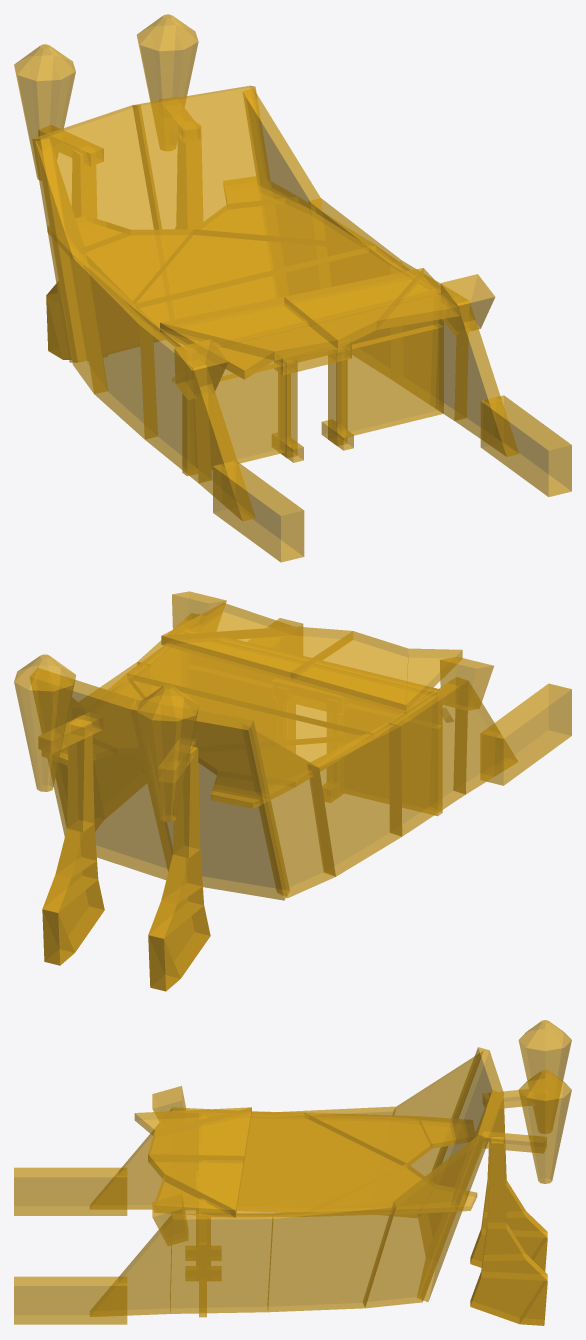
The model's file is SM_Veh_Ship_M_Back_04_Collision.fbx.
The picture shows the model from 3 angles, top to bottom: view 1: azimuth 30°, elevation 25°; view 2: azimuth 150°, elevation 25°; view 3: azimuth 270°, elevation 25°; orthographic projection. The views are drawn at different scales.
Parts seen in each view (by area): view 1: SM_Veh_Ship_M_Back_04_Collision; view 2: SM_Veh_Ship_M_Back_04_Collision; view 3: SM_Veh_Ship_M_Back_04_Collision.
Boxes of the visible parts, x1=… form: SM_Veh_Ship_M_Back_04_Collision: x1=14, y1=14, x2=571, y2=562; SM_Veh_Ship_M_Back_04_Collision: x1=14, y1=591, x2=571, y2=991; SM_Veh_Ship_M_Back_04_Collision: x1=14, y1=1020, x2=571, y2=1325.
Size of the model in its own units: 739 by 709 by 1412.
